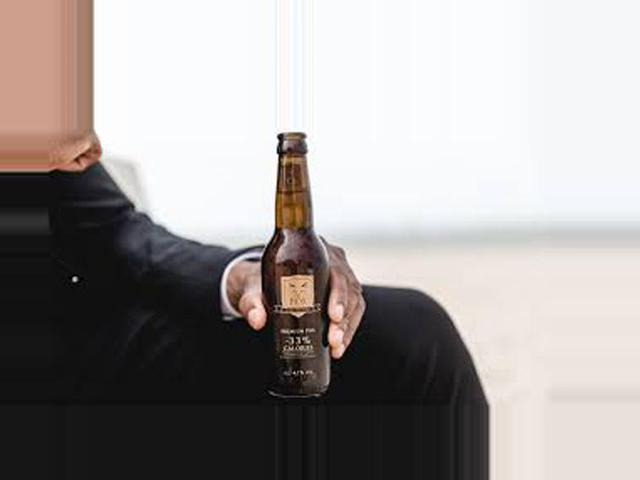beer: (264, 132, 331, 397)
